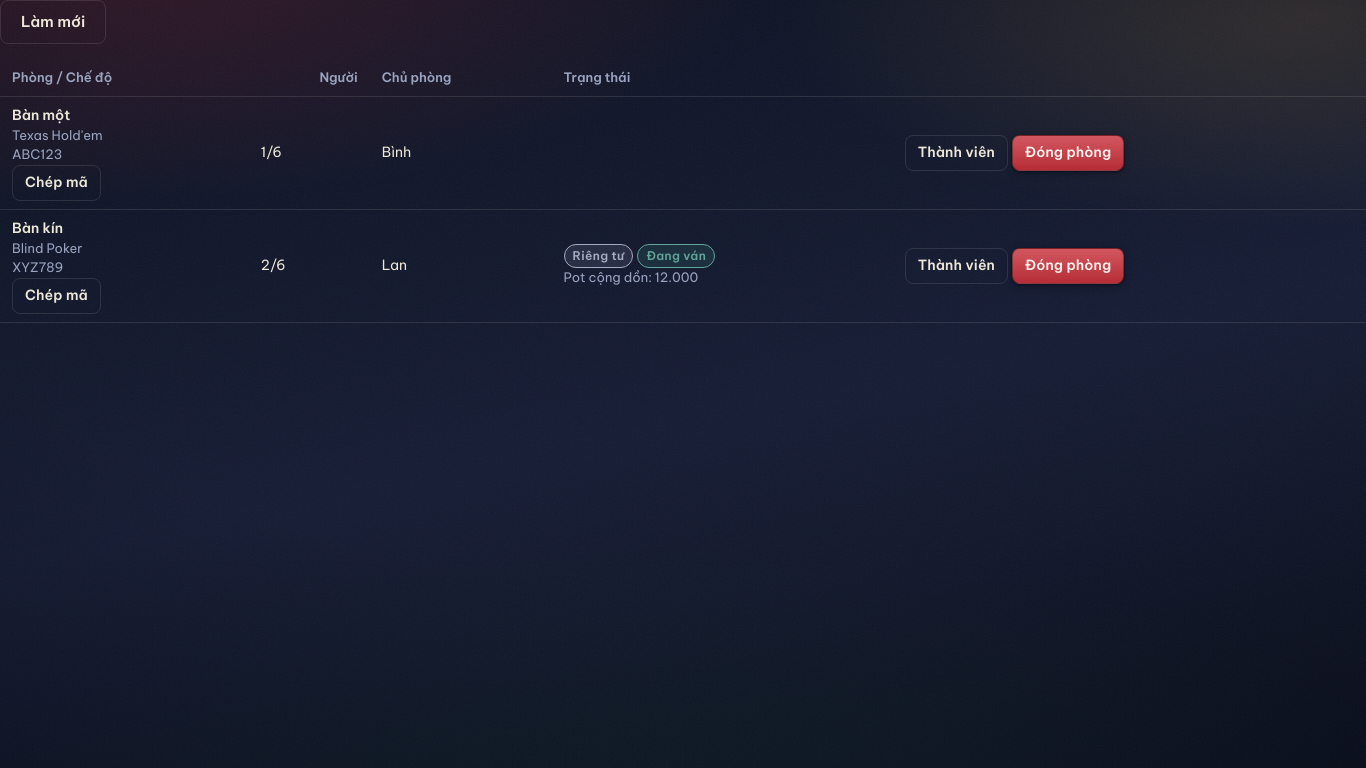
Test: RoomsTab › shows each person’s rank as a numeral after their name, and asks about no bot
Click the button "Thành viên" in the row of "Blind Poker".
click(956, 266)  # box [905, 248, 1008, 284]
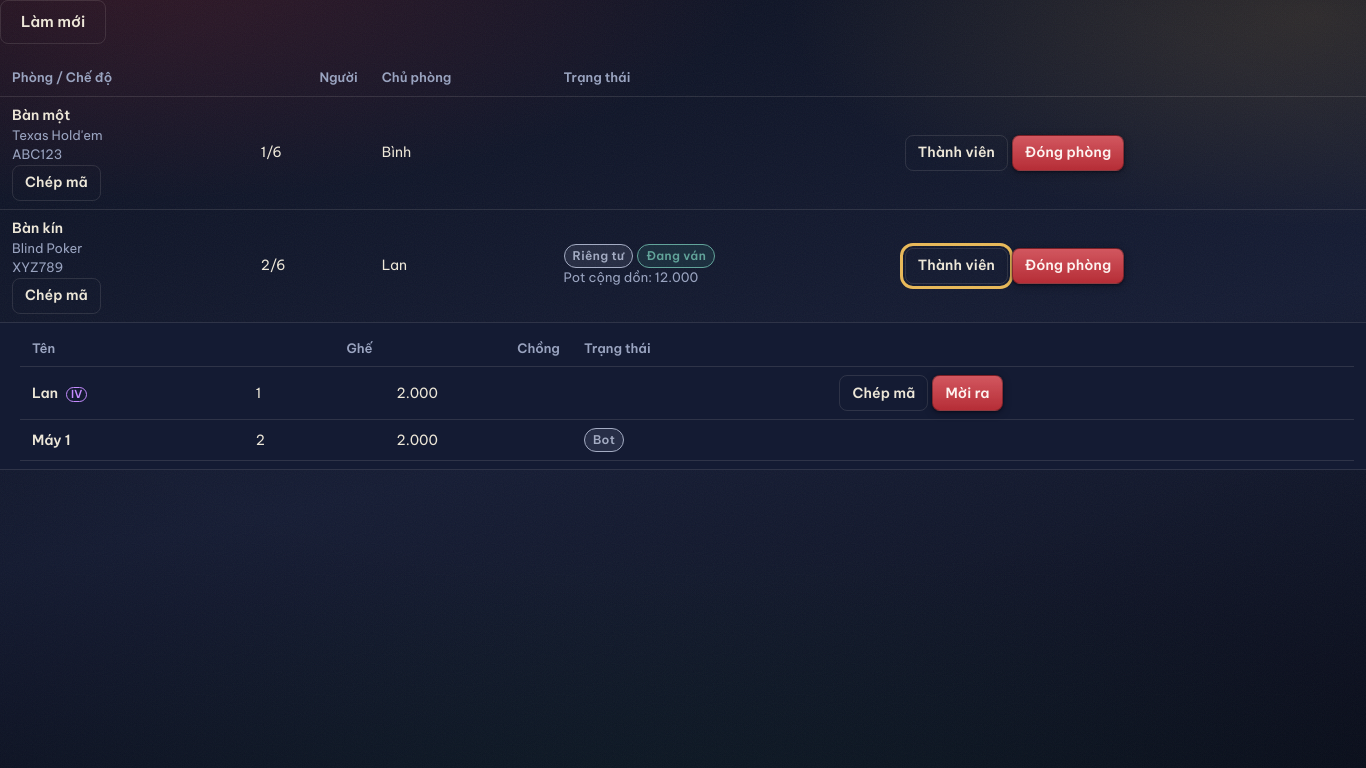
Result: the picture named "Bậc thầy" reads "IV" at [71, 386, 82, 400]
